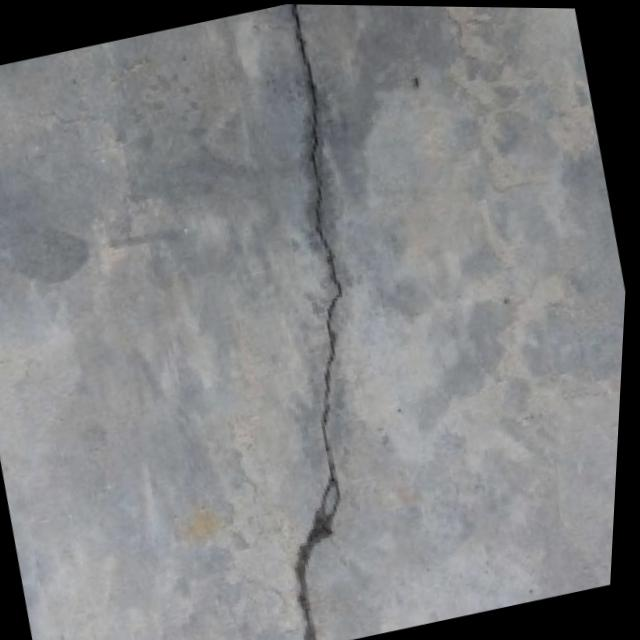Crack: (158, 2, 474, 640)
